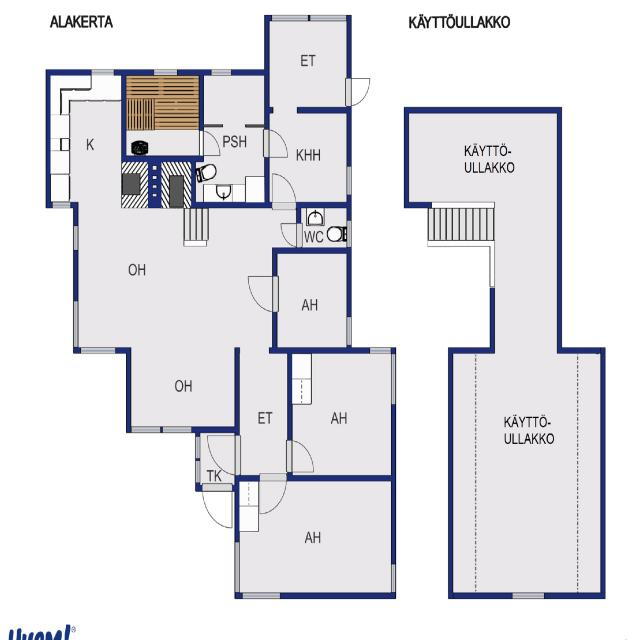door: (202, 485, 232, 530), (206, 436, 239, 474), (260, 475, 286, 516), (247, 276, 277, 311), (272, 170, 296, 208), (288, 440, 316, 472), (347, 78, 371, 105), (265, 130, 289, 157), (199, 131, 222, 156), (279, 223, 301, 247)
